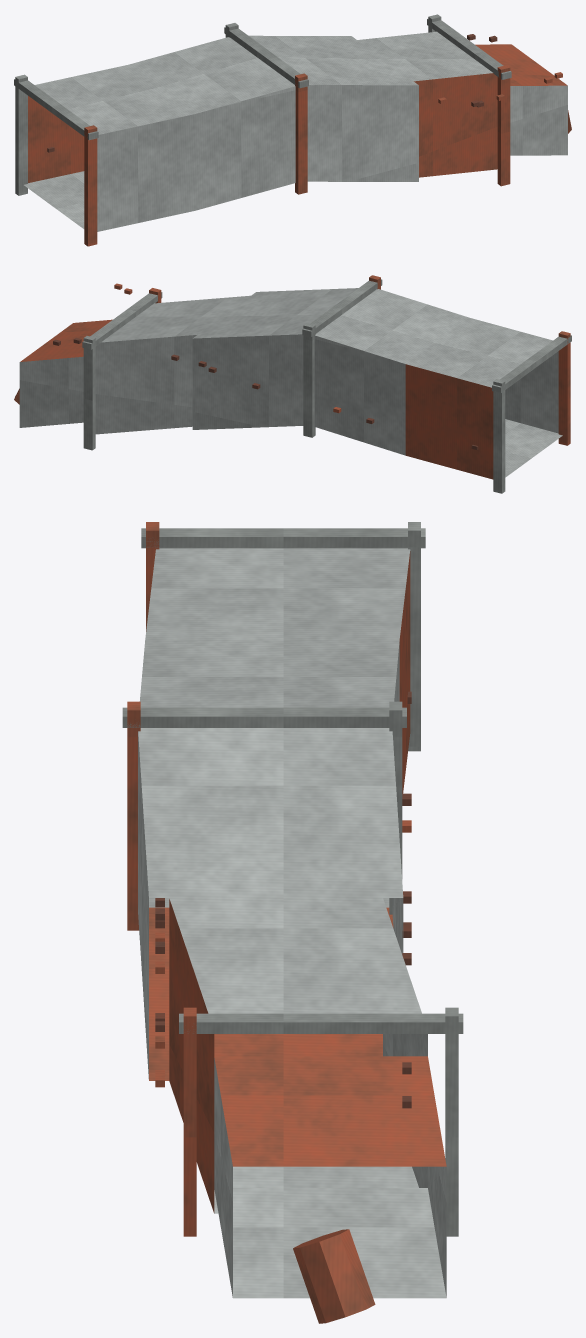
Rendered from crushed_ventilation_duct.glb.
The picture shows the model from 3 angles, top to bottom: view 1: azimuth 30°, elevation 25°; view 2: azimuth 150°, elevation 25°; view 3: azimuth 270°, elevation 25°; orthographic projection. The views are drawn at different scales.
Parts seen in each view (by area): view 1: AshfallDecorativeProp; view 2: AshfallDecorativeProp; view 3: AshfallDecorativeProp.
Boxes of the visible parts, x1,y1,x2,y2 form: AshfallDecorativeProp: (14, 14, 571, 246); AshfallDecorativeProp: (14, 275, 571, 493); AshfallDecorativeProp: (122, 522, 463, 1323).
Size of the model in its own units: 3.12 by 0.982 by 0.91.
4 materials, 4 textured.
